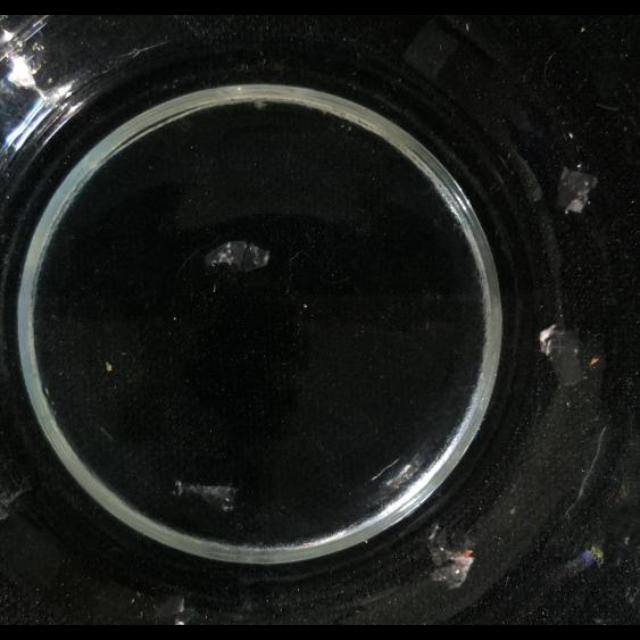Fibre: (426, 527, 476, 591), (539, 324, 589, 386), (203, 240, 270, 274), (173, 480, 239, 512), (556, 168, 598, 215), (155, 597, 189, 623)
microbeads: (105, 361, 114, 372), (211, 282, 217, 292)
